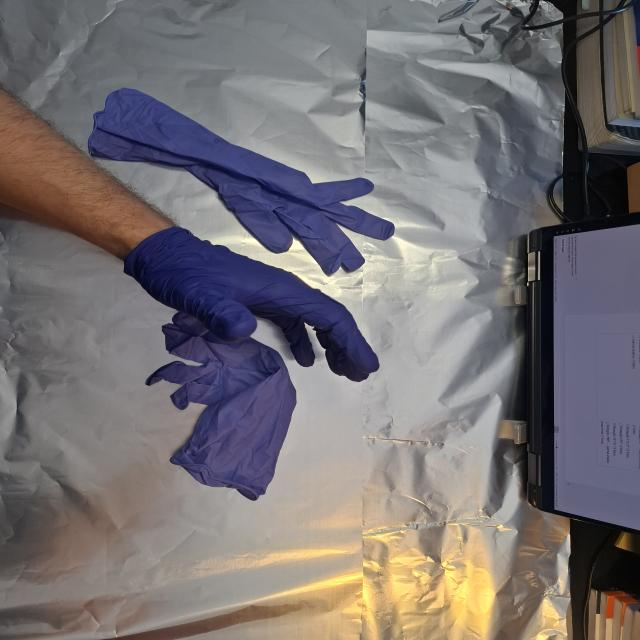glove_on: (120, 228, 383, 386)
